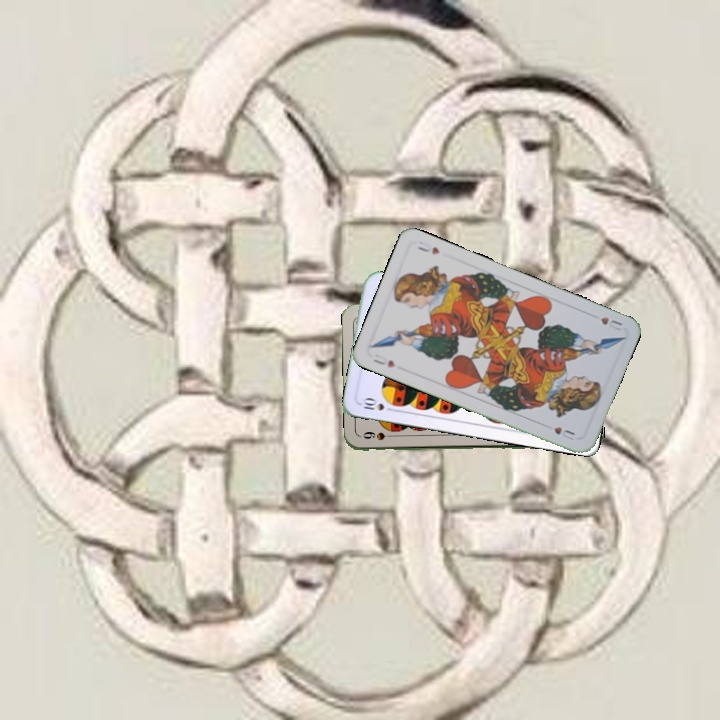HU: (370, 350, 398, 370), (597, 313, 625, 333)
S10: (357, 394, 398, 414)
S9: (359, 428, 399, 443)
